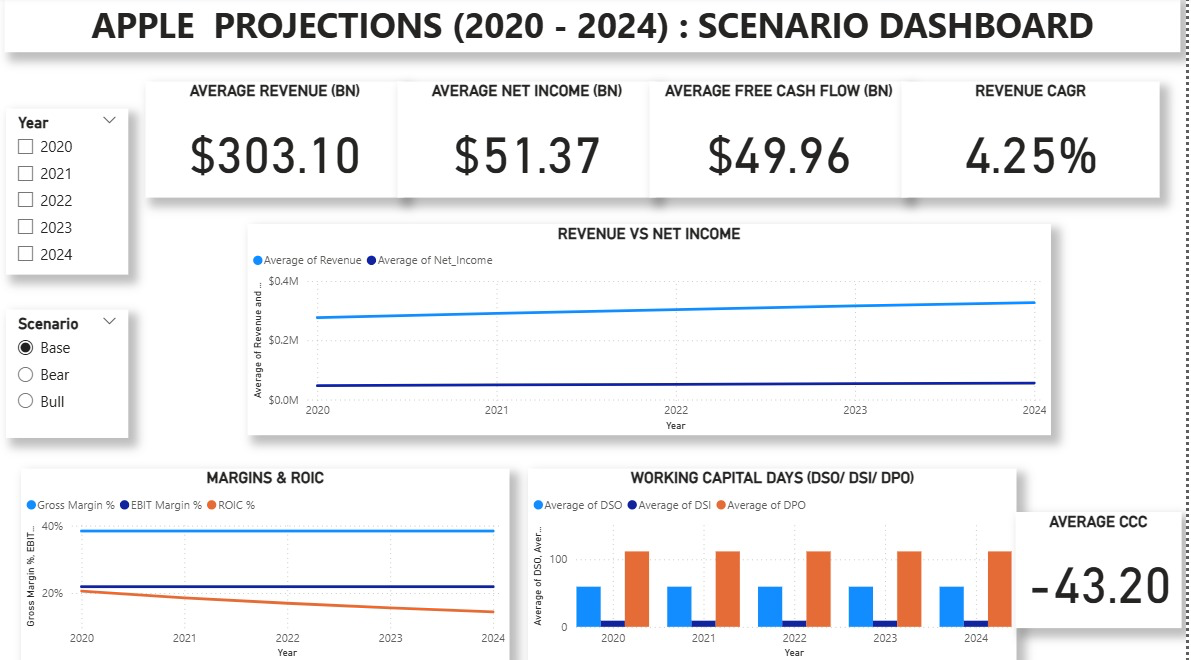

What the dashboard file says about the page in this screenshot:
{"tool":"powerbi","page":{"name":"Page 2","canvas":[1280,720],"ordinal":0},"visuals":[{"type":"textbox","box":[5.3,0,1269.3,60.8],"z":0},{"type":"slicer","fields":{"Values":["dashboard_all.Year"]},"box":[6.8,121.4,131.8,179.2],"z":1000},{"type":"slicer","fields":{"Values":["dashboard_all.Scenario"]},"box":[6.8,338,131.8,138.6],"z":2000},{"type":"card","title":"AVERAGE REVENUE (BN)","fields":{"Values":["dashboard_all.Revenue Avg (Bn)"]},"box":[157.1,92.7,278.9,125.1],"z":3000},{"type":"card","title":"AVERAGE NET INCOME (BN)","fields":{"Values":["dashboard_all.NI Avg (Bn)"]},"box":[429.2,92.7,278.9,125.1],"z":4000},{"type":"card","title":"AVERAGE FREE CASH FLOW (BN)","fields":{"Values":["dashboard_all.FCF Avg (Bn)"]},"box":[701.3,92.7,278.9,125.1],"z":5000},{"type":"card","title":"REVENUE CAGR","fields":{"Values":["dashboard_all.Revenue CAGR %"]},"box":[973.5,92.7,278.9,125.1],"z":6000},{"type":"lineChart","title":"REVENUE VS NET INCOME","fields":{"Category":["dashboard_all.Year"],"Y":["dashboard_all.NI Avg (Bn)","dashboard_all.Revenue Avg (Bn)"]},"box":[267,246.8,867,228.2],"z":7000},{"type":"lineChart","title":"MARGINS & ROIC","fields":{"Category":["dashboard_all.Year"],"Y":["dashboard_all.Gross Margin %","dashboard_all.EBIT Margin %","dashboard_all.ROIC %"]},"box":[22,510.4,527.3,209.6],"z":8000},{"type":"clusteredColumnChart","title":"WORKING CAPITAL DAYS (DSO/ DSI/ DPO)","fields":{"Category":["dashboard_all.Year"],"Y":["Avg(dashboard_all.DSO)","Avg(dashboard_all.DSI)","Avg(dashboard_all.DPO)"]},"box":[569.6,510.4,527.3,209.6],"z":9000},{"type":"card","title":"AVERAGE CASH CONVERSION CYCLE (DAYS)","fields":{"Values":["dashboard_all.CCC Avergae"]},"box":[1096.9,557.8,179.2,125.1],"z":10000}]}

Visuals, with their boxes in screenshot pixels (x1, y1, x2, y2), scaled from the page's 1280x720 canvas onto the 1191x660 screenshot:
textbox: box(5, 0, 1186, 56)
slicer - dashboard_all.Year: box(6, 111, 129, 276)
slicer - dashboard_all.Scenario: box(6, 310, 129, 437)
"AVERAGE REVENUE (BN)" card: box(146, 85, 406, 200)
"AVERAGE NET INCOME (BN)" card: box(399, 85, 659, 200)
"AVERAGE FREE CASH FLOW (BN)" card: box(653, 85, 912, 200)
"REVENUE CAGR" card: box(906, 85, 1165, 200)
"REVENUE VS NET INCOME" lineChart: box(248, 226, 1055, 435)
"MARGINS & ROIC" lineChart: box(20, 468, 511, 659)
"WORKING CAPITAL DAYS (DSO/ DSI/ DPO)" clusteredColumnChart: box(530, 468, 1021, 659)
"AVERAGE CASH CONVERSION CYCLE (DAYS)" card: box(1021, 511, 1187, 626)
